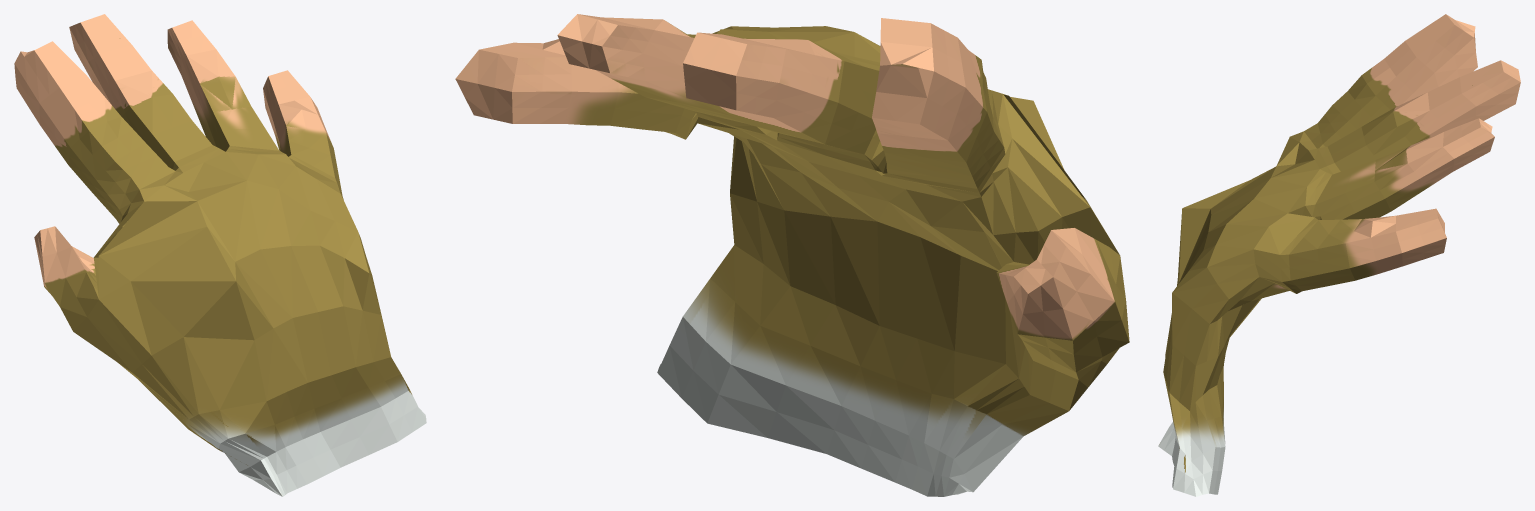
File: flexion0029.obj
3 renders of one model, left to right at view 1: azimuth 30°, elevation 25°; view 2: azimuth 150°, elevation 25°; view 3: azimuth 270°, elevation 25°, orthographic. The views are drawn at different scales.
Visible parts, largest first — view 1: Hand; view 2: Hand; view 3: Hand.
Boxes of the visible parts, box(x1,y1,x2,y2) form: Hand: box(14, 14, 426, 496); Hand: box(455, 14, 1129, 496); Hand: box(1158, 14, 1520, 496).
Bounding box in the file's own units: 3.27 × 3.72 × 3.19.
